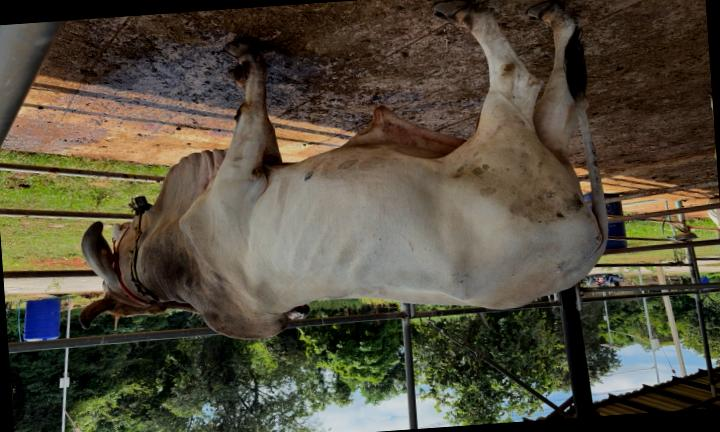Brahman: (81, 0, 607, 339)
